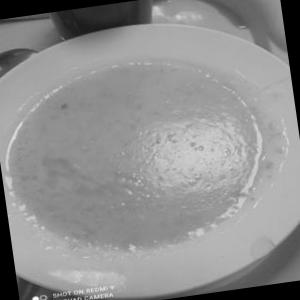porridge: (0, 34, 281, 274)
